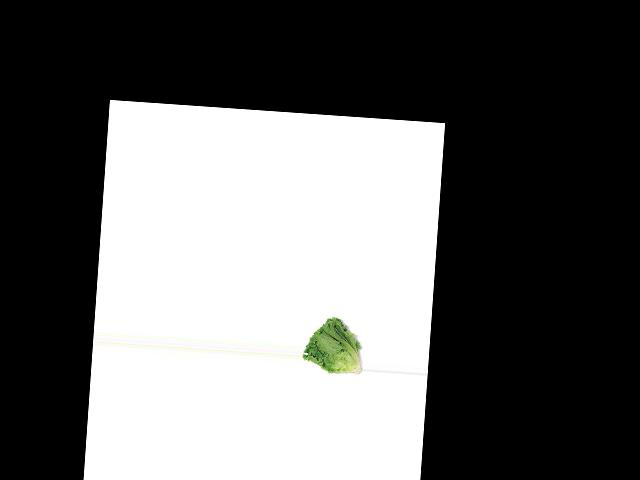lettuce: (301, 310, 367, 380)
